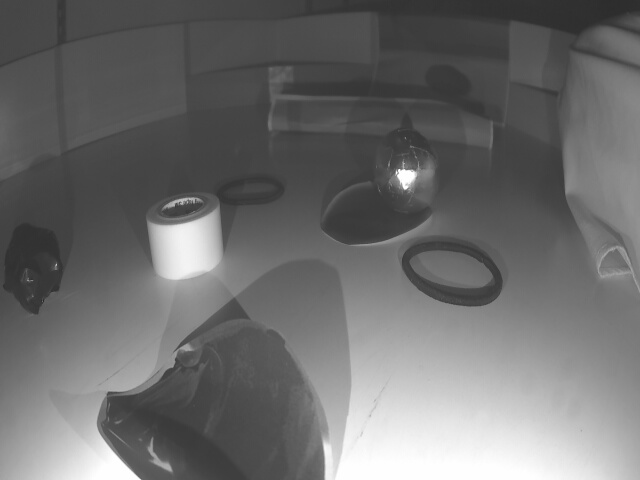Dead: (4, 229, 62, 305)
Live: (373, 130, 437, 206)
Point: (189, 66, 370, 114), (509, 81, 564, 150)
